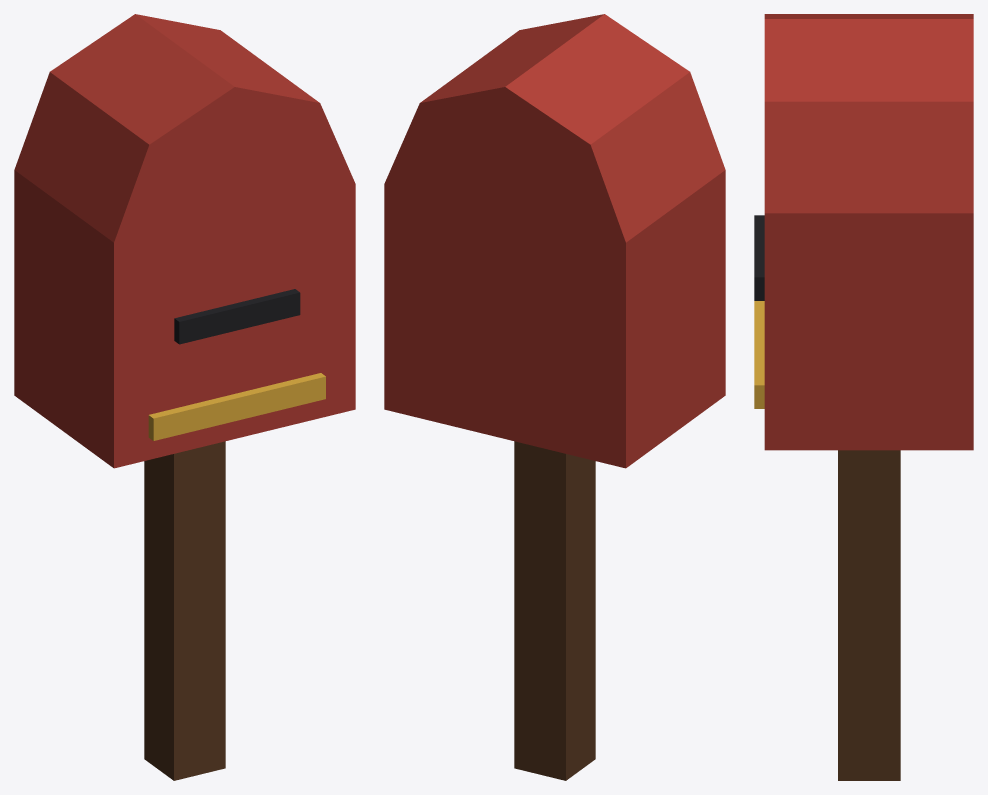
File: Mailbox.fbx
3 views of the same model, side by side, from view 1: azimuth 30°, elevation 25°; view 2: azimuth 150°, elevation 25°; view 3: azimuth 270°, elevation 25° (orthographic). The views are drawn at different scales.
Parts seen in each view (by area): view 1: Mailbox; view 2: Mailbox; view 3: Mailbox.
Boxes of the visible parts, <box> form: Mailbox: <box>14,14,355,780</box>; Mailbox: <box>384,14,725,780</box>; Mailbox: <box>754,14,973,780</box>.
Bounding box in the file's own units: 0.56 × 1.58 × 0.42.
